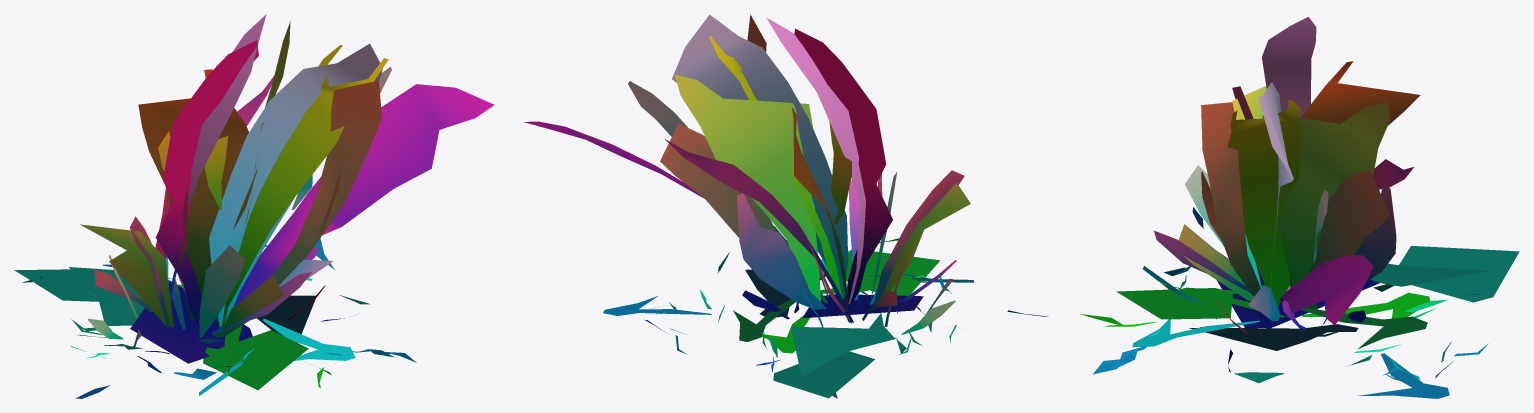
The model's file is Dead_Shrubs_vdknafgha_Low_vdknafgha_VarH_LOD0.fbx.
The picture shows the model from 3 angles, left to right: view 1: azimuth 30°, elevation 25°; view 2: azimuth 150°, elevation 25°; view 3: azimuth 270°, elevation 25°; orthographic projection. The views are drawn at different scales.
Visible parts, largest first — view 1: _sh7g_VarH_LOD1; view 2: _sh7g_VarH_LOD1; view 3: _sh7g_VarH_LOD1.
Boxes of the visible parts, bbox=[...] form: _sh7g_VarH_LOD1: bbox=[14, 14, 494, 398]; _sh7g_VarH_LOD1: bbox=[524, 14, 1048, 398]; _sh7g_VarH_LOD1: bbox=[1080, 17, 1519, 398].
Size of the model in its own units: 92.03 by 54.11 by 64.8.
